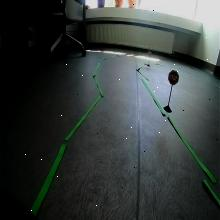stop: (168, 69, 179, 85)
